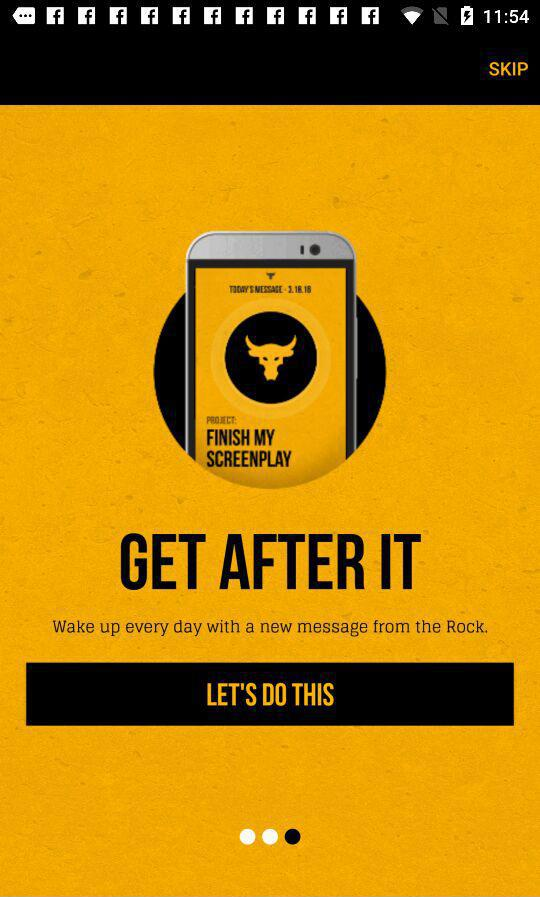Image: (153, 230, 387, 490)
PageIndicator: (239, 827, 302, 847)
Text: (120, 533, 422, 592), (53, 619, 490, 637), (488, 62, 529, 78)
TextButton: (26, 662, 515, 727)
UpperTaskBar: (1, 1, 540, 27)
